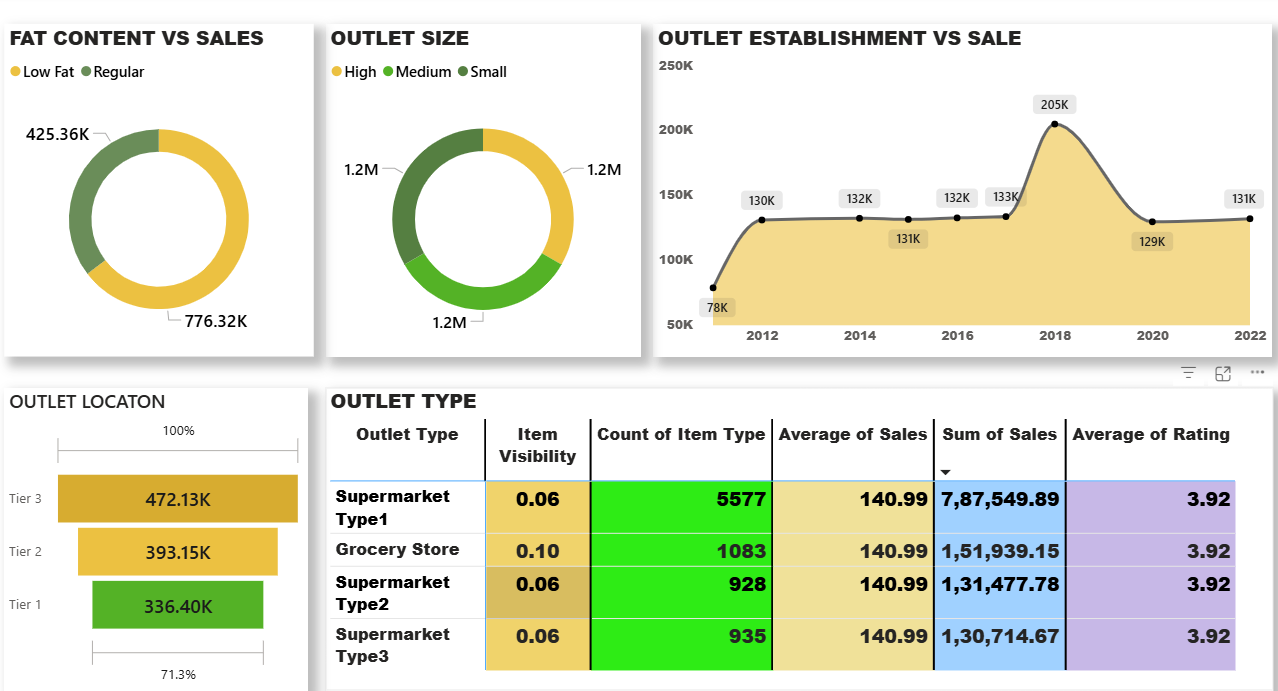

The page's visual inventory and layout, read from the dashboard file:
{"tool":"powerbi","page":{"name":"Page 2","canvas":[1280,720],"ordinal":1},"visuals":[{"type":"pivotTable","title":"OUTLET TYPE","fields":{"Rows":["BlinkIT Grocery Data.Outlet Type"],"Values":["Avg(BlinkIT Grocery Data.Item Visibility)","CountNonNull(BlinkIT Grocery Data.Item Type)","Avg(Table1.Sales)","Sum(BlinkIT Grocery Data.Sales)","Avg(Table1.Rating)"]},"box":[325.5,390.6,943.2,302.4],"z":0},{"type":"lineChart","title":"OUTLET ESTABLISHMENT VS SALE","fields":{"Category":["BlinkIT Grocery Data.Outlet Establishment Year"],"Y":["Sum(BlinkIT Grocery Data.Sales)"]},"box":[652.4,28.9,616.3,331.3],"z":1000},{"type":"funnel","title":"OUTLET LOCATON","fields":{"Y":["Sum(BlinkIT Grocery Data.Sales)"],"Category":["BlinkIT Grocery Data.Outlet Location Type"]},"box":[5.8,390.6,302.4,302.4],"z":2000},{"type":"donutChart","title":"OUTLET SIZE","fields":{"Y":["Sum(Table1.Sales)"],"Category":["BlinkIT Grocery Data.Outlet Size"]},"box":[325.5,28.9,313.9,331.3],"z":3000},{"type":"donutChart","title":"FAT CONTENT VS SALES","fields":{"Y":["Sum(BlinkIT Grocery Data.Sales)"],"Category":["BlinkIT Grocery Data.Item Fat Content"]},"box":[5.8,28.9,308.1,331.3],"z":4000}]}

Visuals, with their boxes on the page's 1280x720 design canvas (x1, y1, x2, y2). These are canvas units, not pixel positions in the 1278x691 screenshot, which may show the page scaled, cropped or inside an application window:
"OUTLET TYPE" pivotTable: {"x1": 326, "y1": 391, "x2": 1269, "y2": 693}
"OUTLET ESTABLISHMENT VS SALE" lineChart: {"x1": 652, "y1": 29, "x2": 1269, "y2": 360}
"OUTLET LOCATON" funnel: {"x1": 6, "y1": 391, "x2": 308, "y2": 693}
"OUTLET SIZE" donutChart: {"x1": 326, "y1": 29, "x2": 639, "y2": 360}
"FAT CONTENT VS SALES" donutChart: {"x1": 6, "y1": 29, "x2": 314, "y2": 360}
